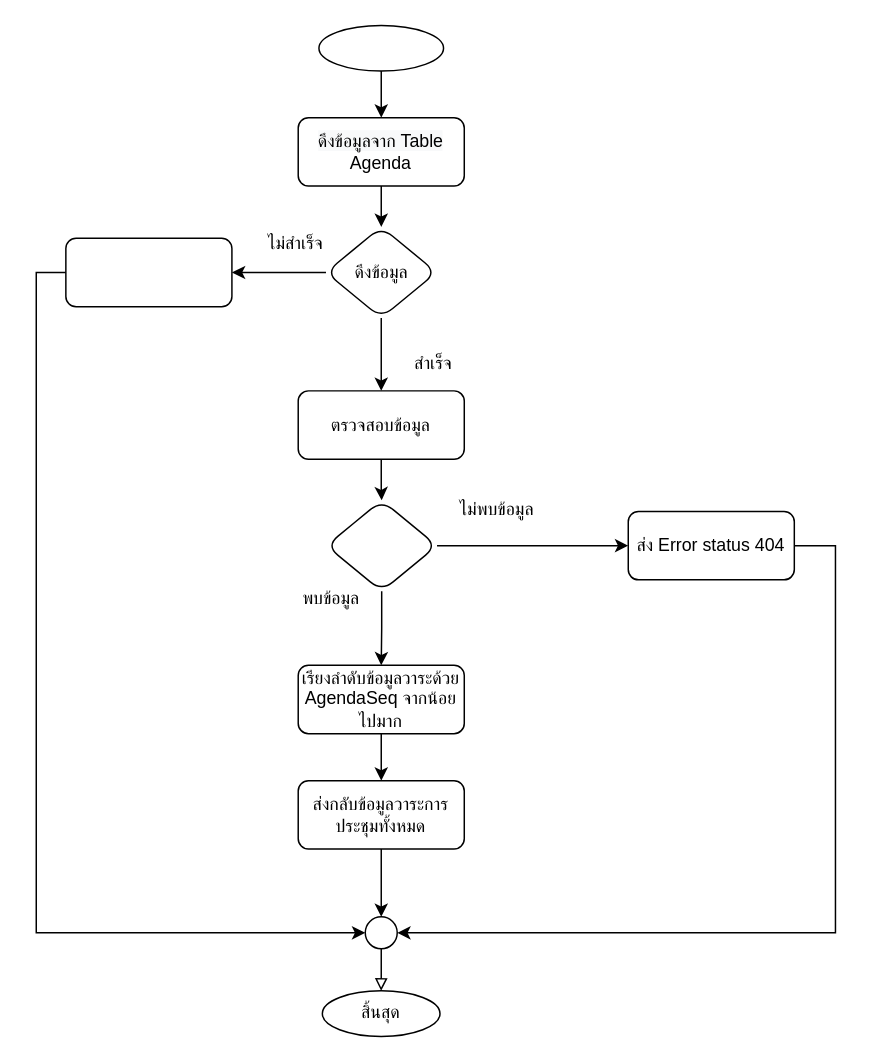
This 873x1064 diagram has some shape labels left out. Each missing label, with the box of its shape:
มีข้อมูล: (325, 499, 437, 591)
ส่ง Error status 500: (64, 237, 232, 307)
เริ่มต้น: (317, 24, 444, 71)
